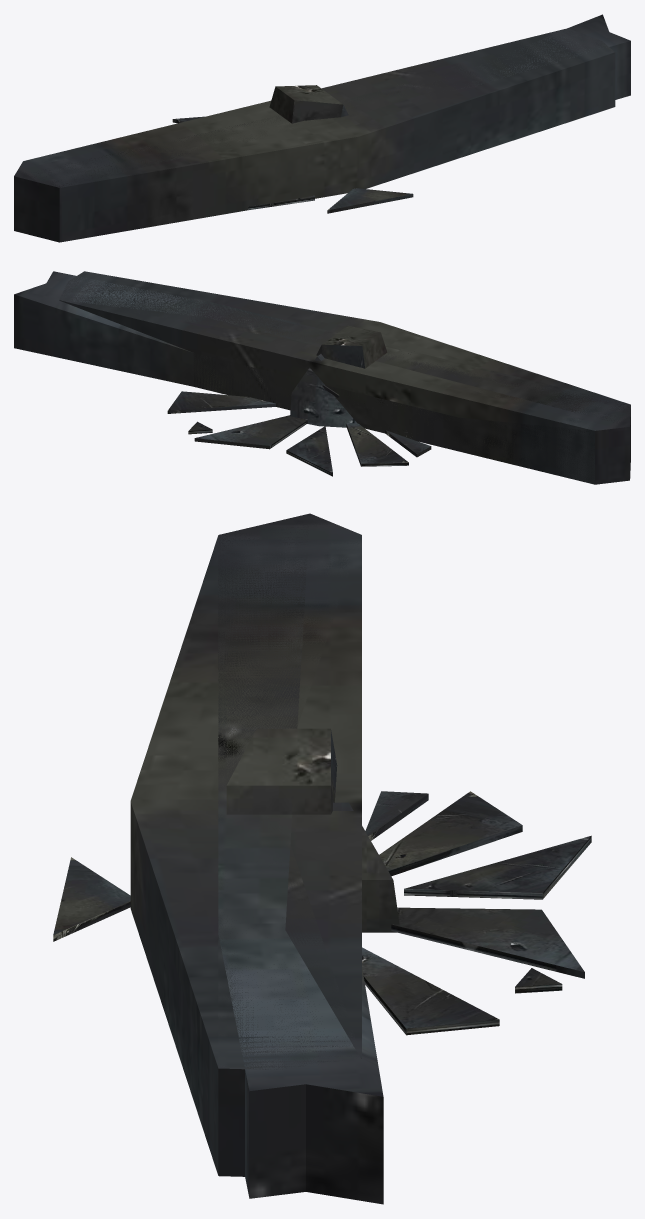
The model's file is SmallTrash.fbx.
3 renders of one model, top to bottom at view 1: azimuth 30°, elevation 25°; view 2: azimuth 150°, elevation 25°; view 3: azimuth 270°, elevation 25°, orthographic. The views are drawn at different scales.
Visible parts, largest first — view 1: Component4, Component2, Component5, Component7, Component9; view 2: Component2, Component5, Component4, Component9, Component8, Component7; view 3: Component4, Component5, Component2, Component9, Component7, Component6, Component8.
Boxes of the visible parts, bbox=[...] form: Component4: bbox=[15, 28, 615, 242]; Component2: bbox=[14, 28, 614, 242]; Component5: bbox=[18, 14, 630, 187]; Component7: bbox=[269, 85, 343, 123]; Component9: bbox=[172, 116, 413, 213]; Component2: bbox=[59, 271, 630, 484]; Component5: bbox=[14, 271, 630, 483]; Component4: bbox=[59, 271, 630, 430]; Component9: bbox=[167, 391, 431, 476]; Component8: bbox=[290, 354, 357, 427]; Component7: bbox=[322, 325, 387, 368]; Component4: bbox=[130, 514, 361, 1174]; Component5: bbox=[218, 514, 383, 1204]; Component2: bbox=[218, 513, 361, 1176]; Component9: bbox=[53, 791, 591, 1035]; Component7: bbox=[226, 728, 337, 802]; Component6: bbox=[226, 785, 334, 814]; Component8: bbox=[333, 802, 399, 932].
Size of the model in its own units: 213 by 25.57 by 83.1.
